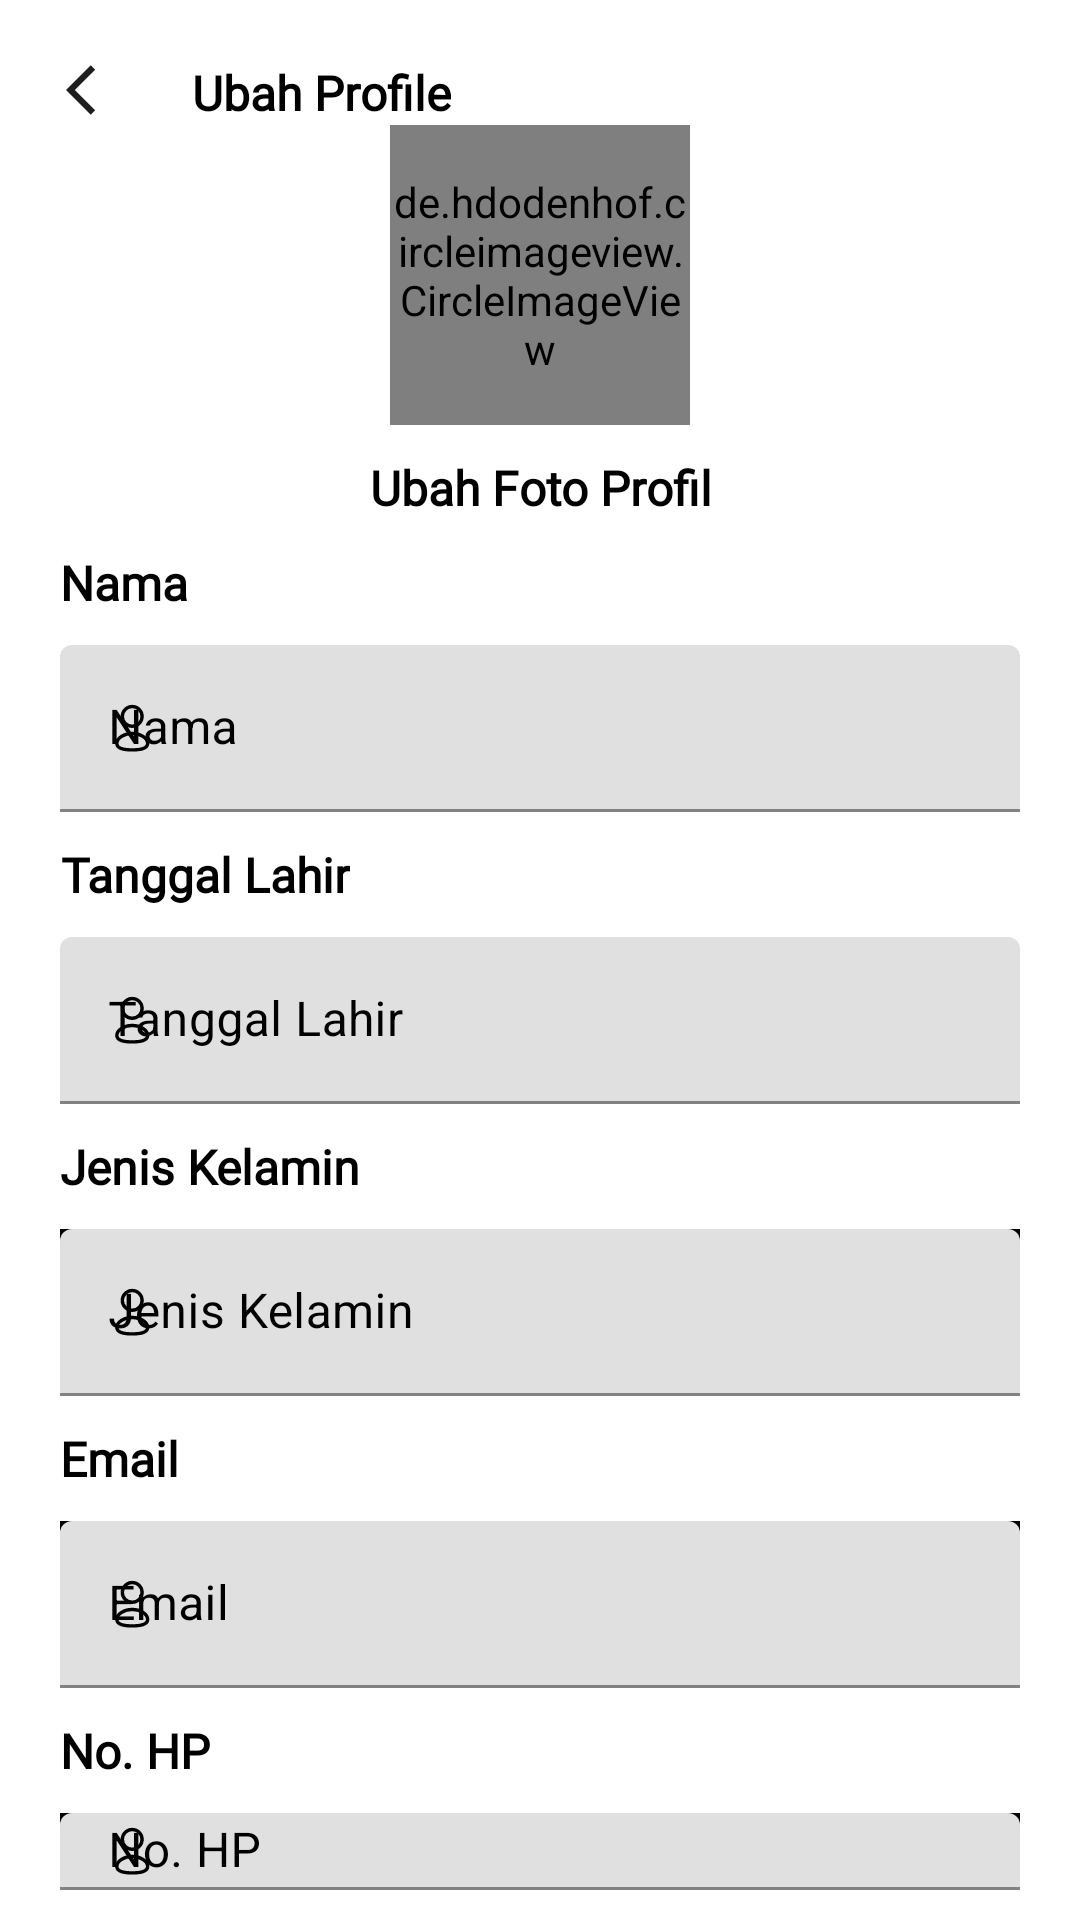

Icon bounding boxes for this 1080 × 1920 phone screenshot, format (x1, y1, x2, y2):
back: (66, 65, 95, 115)
